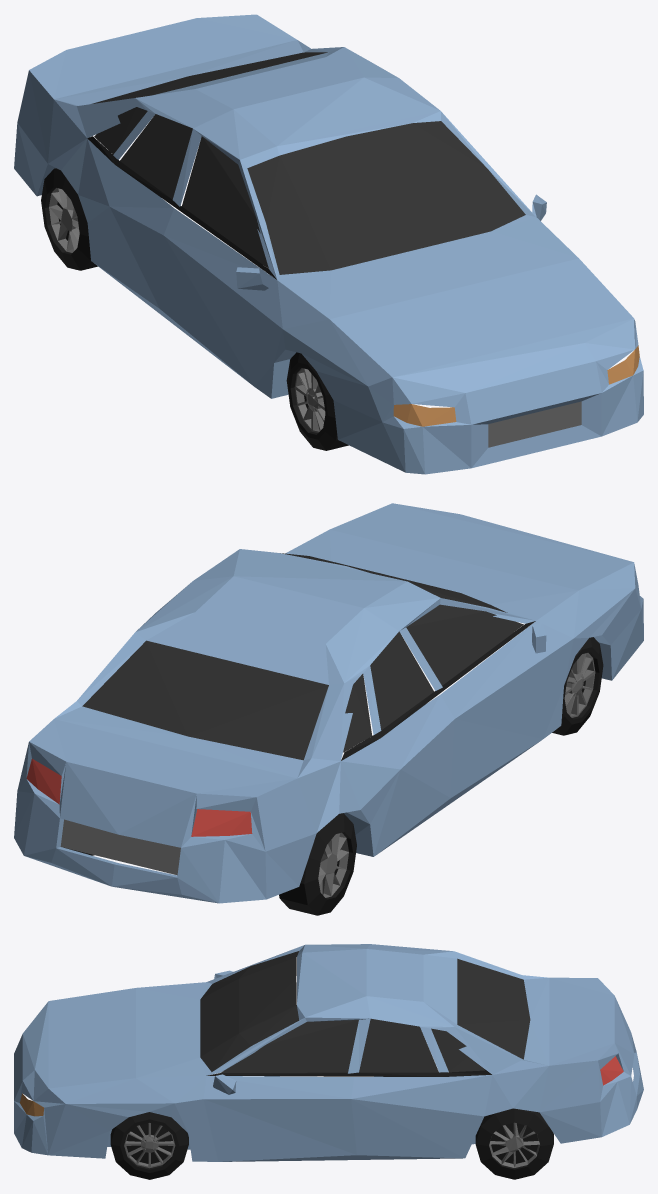
File: sedan.glb
The picture shows the model from 3 angles, top to bottom: view 1: azimuth 30°, elevation 25°; view 2: azimuth 150°, elevation 25°; view 3: azimuth 270°, elevation 25°; orthographic projection. The views are drawn at different scales.
Visible parts, largest first — view 1: NormalCar1_Cube.012, NormalCar1_BackWheels_Cube.011, NormalCar1_FrontRightWheel_Cube.008; view 2: NormalCar1_Cube.012, NormalCar1_BackWheels_Cube.011, NormalCar1_FrontRightWheel_Cube.008; view 3: NormalCar1_Cube.012, NormalCar1_BackWheels_Cube.011, NormalCar1_FrontLeftWheel_Cube.007.
Part boxes in pixels (x1,y1,x2,y2): NormalCar1_Cube.012: [14, 14, 643, 474]; NormalCar1_BackWheels_Cube.011: [41, 168, 97, 270]; NormalCar1_FrontRightWheel_Cube.008: [286, 352, 348, 450]; NormalCar1_Cube.012: [14, 503, 643, 903]; NormalCar1_BackWheels_Cube.011: [64, 813, 356, 915]; NormalCar1_FrontRightWheel_Cube.008: [552, 637, 603, 735]; NormalCar1_Cube.012: [14, 944, 643, 1161]; NormalCar1_BackWheels_Cube.011: [475, 1069, 553, 1179]; NormalCar1_FrontLeftWheel_Cube.007: [110, 1112, 188, 1179].
Bounding box in the file's own units: 1.79 × 1.18 × 4.21.
